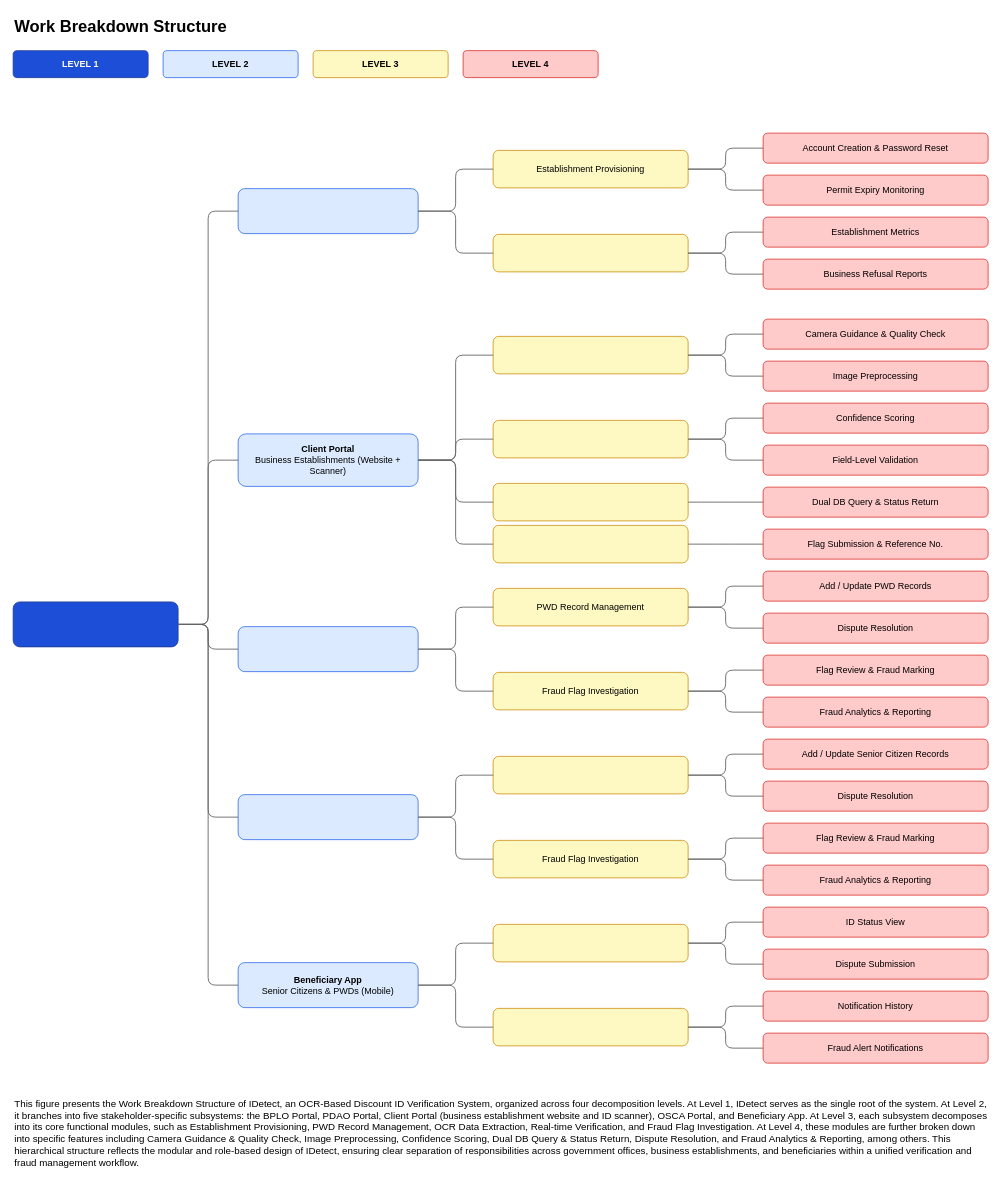
The diagram is 1001 pixels wide and 1196 high, and some of its shapes have lost their labels. The centre of each missing label's shape, as x and y in pixels:
"BPLO Portal Business Permit & Licensing (Website)" goes at point 327,211.
"Fraud Flag Reporting" goes at point 590,544.
"ID Image Capture and Preparation" goes at point 590,355.
"ID Status Monitoring" goes at point 590,943.
"IDetect OCR-Based Discount ID Verification System" goes at point 95,624.
"OCR Data Extraction" goes at point 590,439.
"Operations Dashboard" goes at point 590,253.
"OSCA Portal Office of Senior Citizen Affairs (Website)" goes at point 327,817.
"PDAO Portal Persons with Disability Affairs (Website)" goes at point 327,649.
"Real-time Verification" goes at point 590,502.
"Senior Citizen Record Management" goes at point 590,775.
"Transaction Notifications" goes at point 590,1027.
